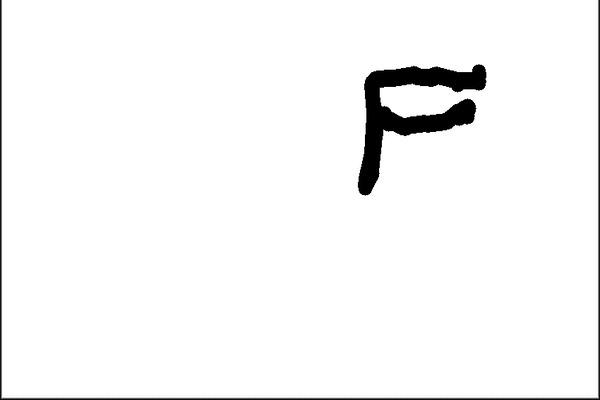F: (350, 60, 489, 199)
